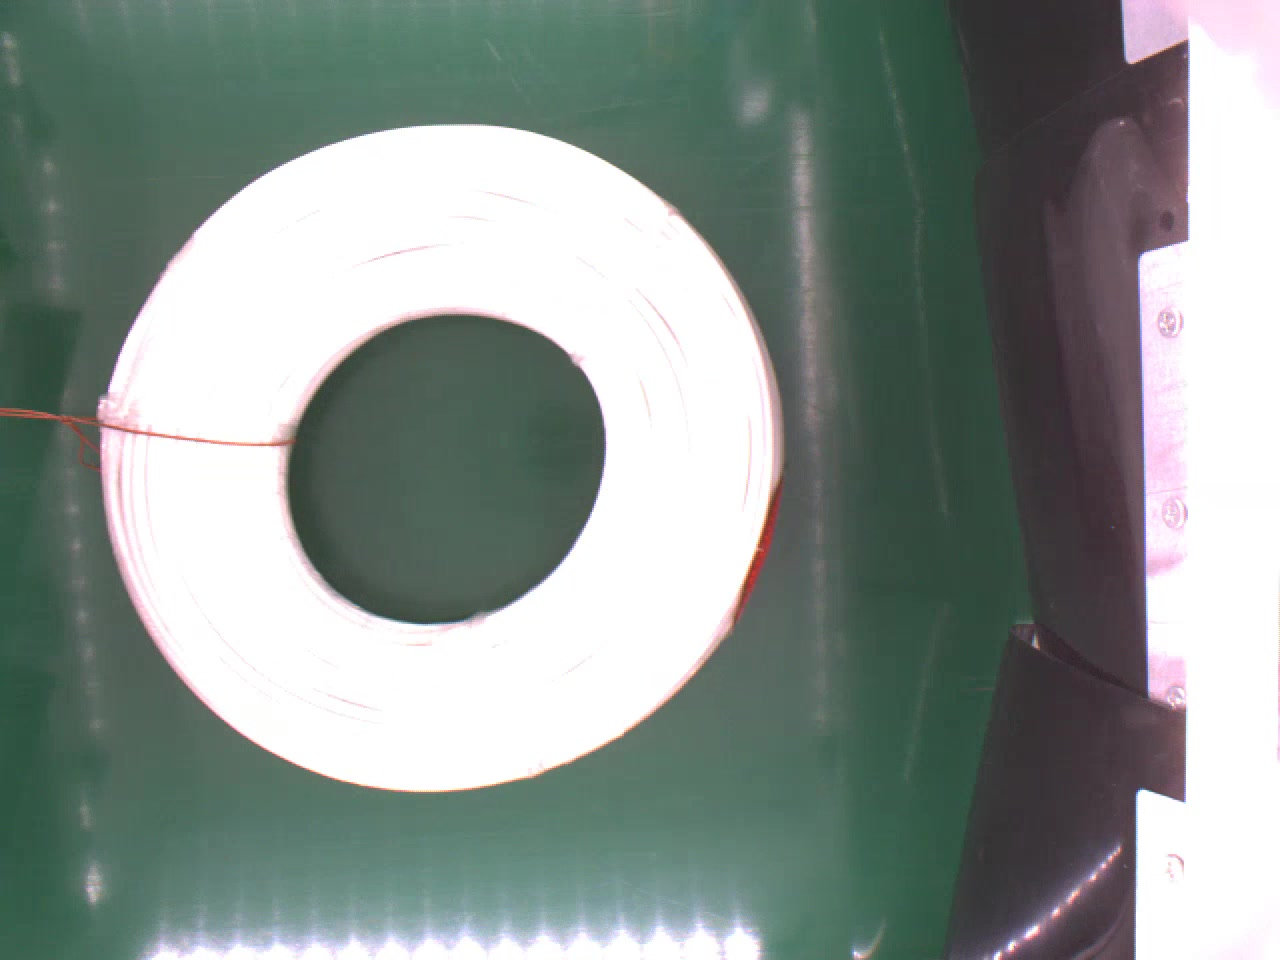white: (95, 118, 777, 791)
